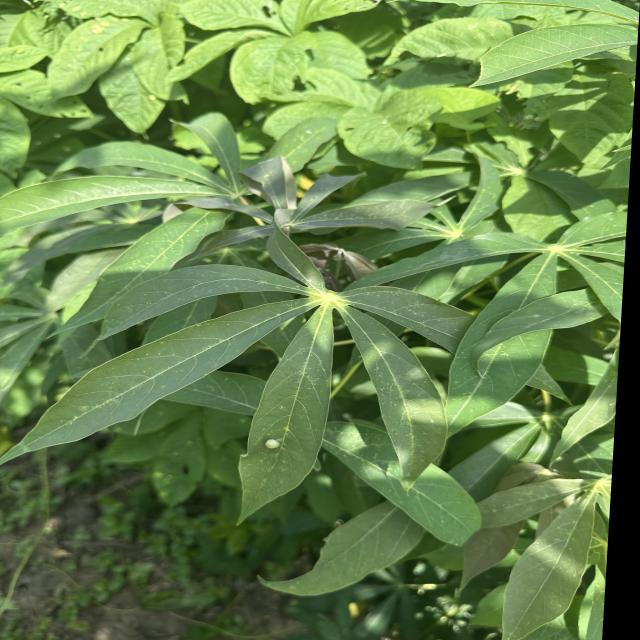Maleza: (213, 0, 381, 139), (41, 6, 202, 122), (363, 2, 499, 130), (325, 82, 461, 169), (0, 0, 58, 165)
Mosca: (250, 431, 289, 455)
